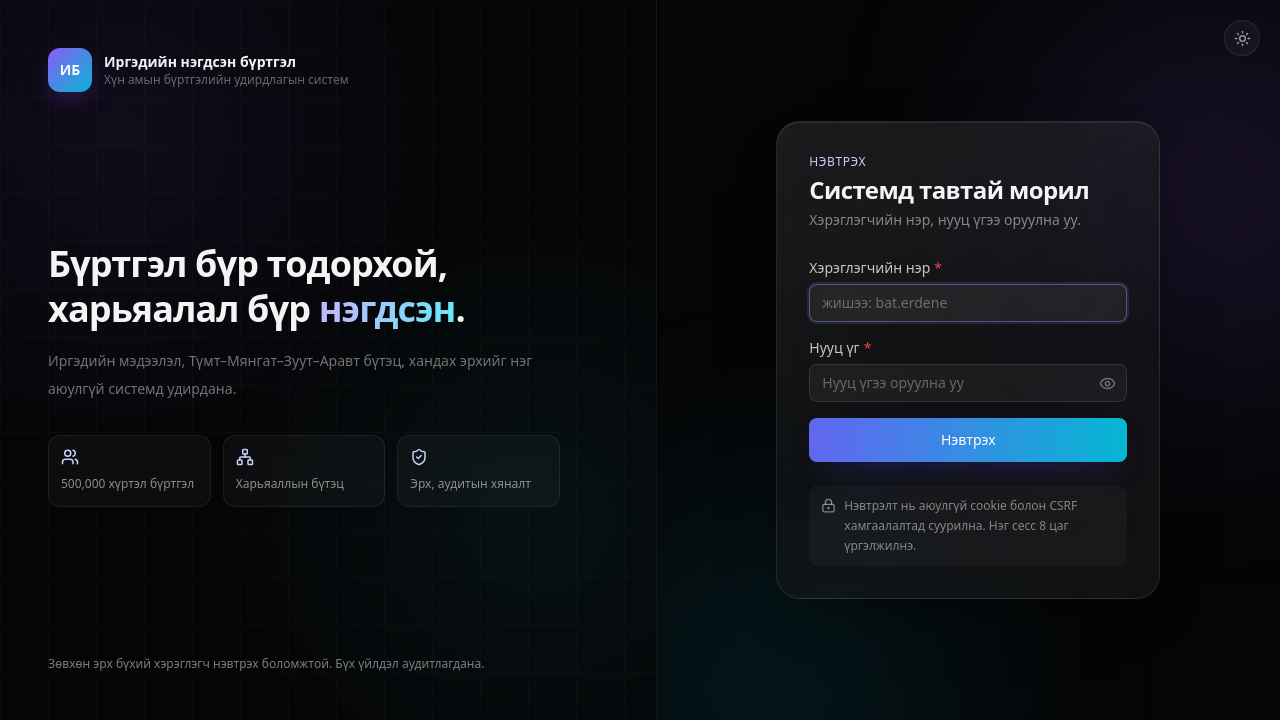
Scenario: LoginPage › shows the server error message
Type "admin" into the field labelled "Хэрэглэгчийн нэр *". click: (968, 303)
box: [809,284,1127,322]
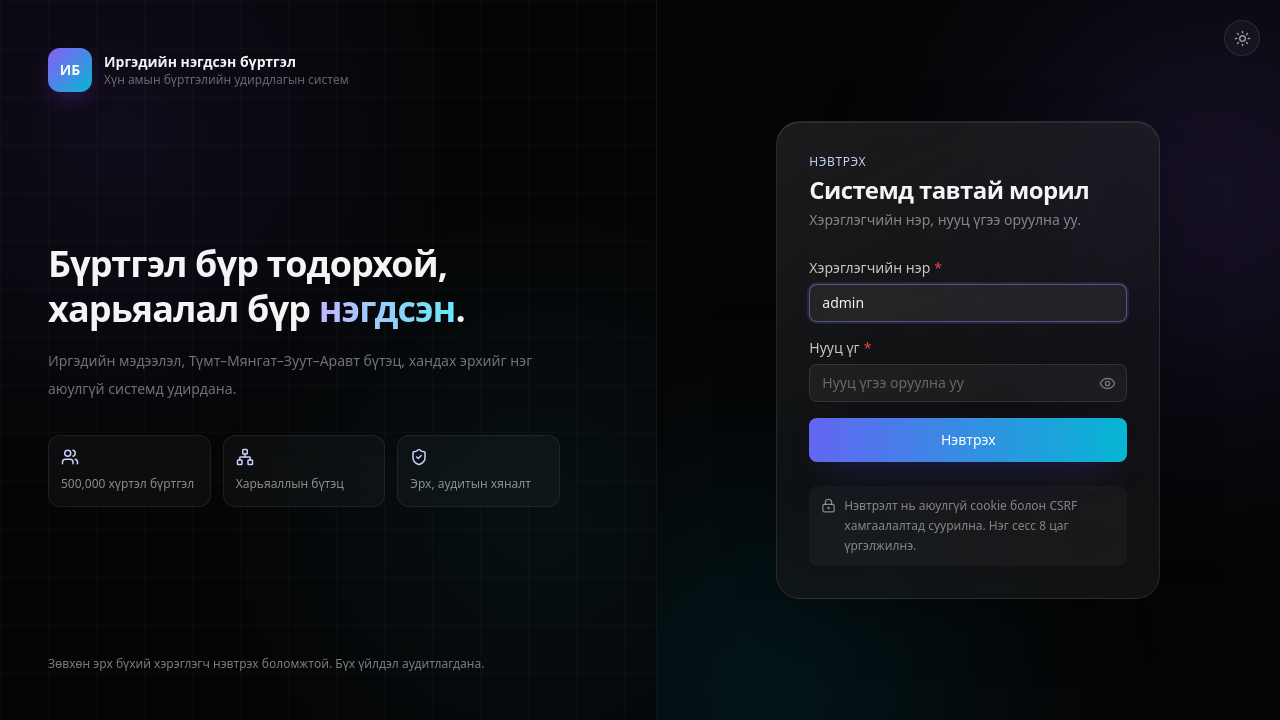
Type "wrong" into the password field with placeholder "Нууц үгээ оруулна уу". click: (968, 383)
box: [809,364,1127,402]
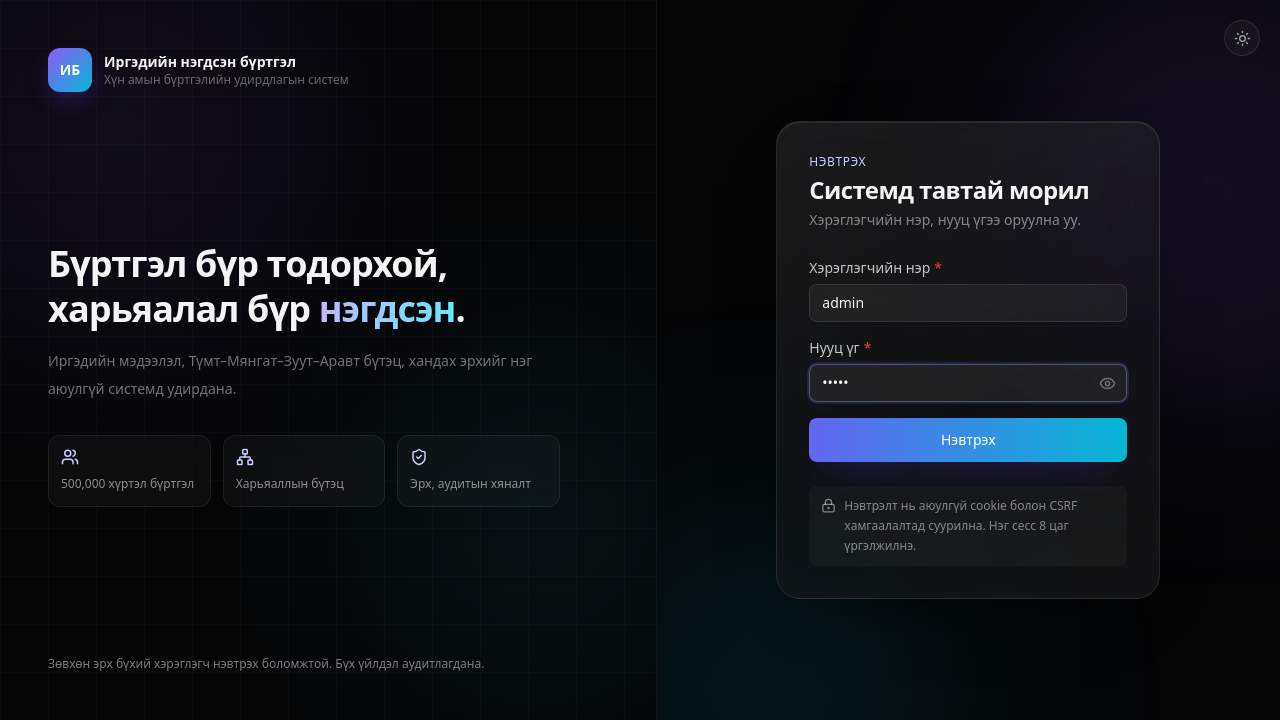
Click the button "Нэвтрэх". click: (968, 440)
box: [809,418,1127,462]
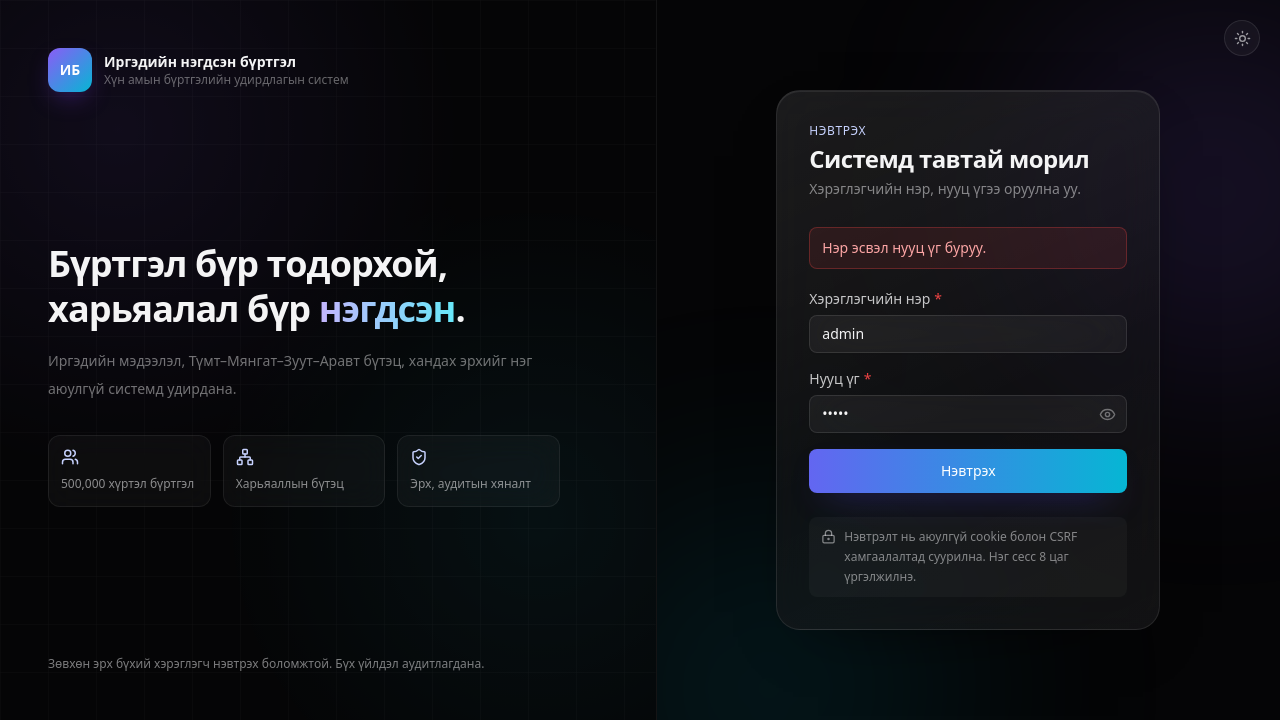
Now the message reads "Нэр эсвэл нууц үг буруу.", box [822,238,986,257]
